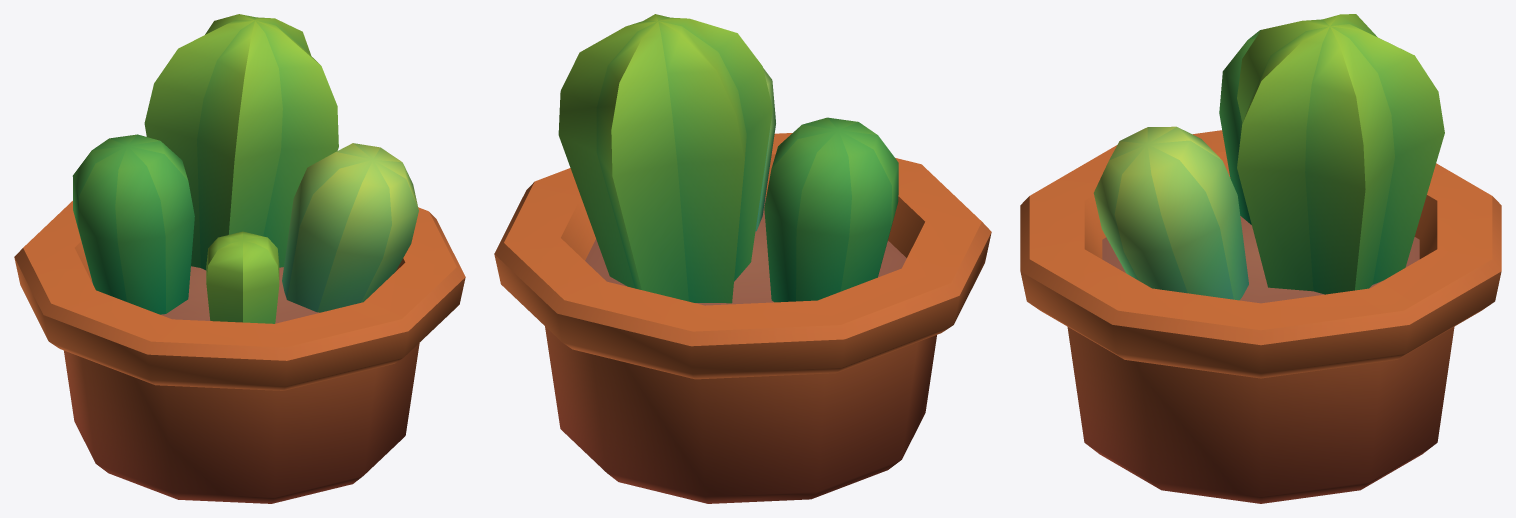
Rendered from cactus_medium_A.glb.
The picture shows the model from 3 angles, left to right: view 1: azimuth 30°, elevation 25°; view 2: azimuth 150°, elevation 25°; view 3: azimuth 270°, elevation 25°; orthographic projection. The views are drawn at different scales.
Parts seen in each view (by area): view 1: cactus_medium_A; view 2: cactus_medium_A; view 3: cactus_medium_A.
Boxes of the visible parts, left/top/right/bottom form: cactus_medium_A: left=14, top=14, right=465, bottom=503; cactus_medium_A: left=494, top=14, right=991, bottom=503; cactus_medium_A: left=1020, top=14, right=1501, bottom=503.
Size of the model in its own units: 0.8799 by 0.8272 by 0.8368.
Materials: 1 (1 with a texture image).
